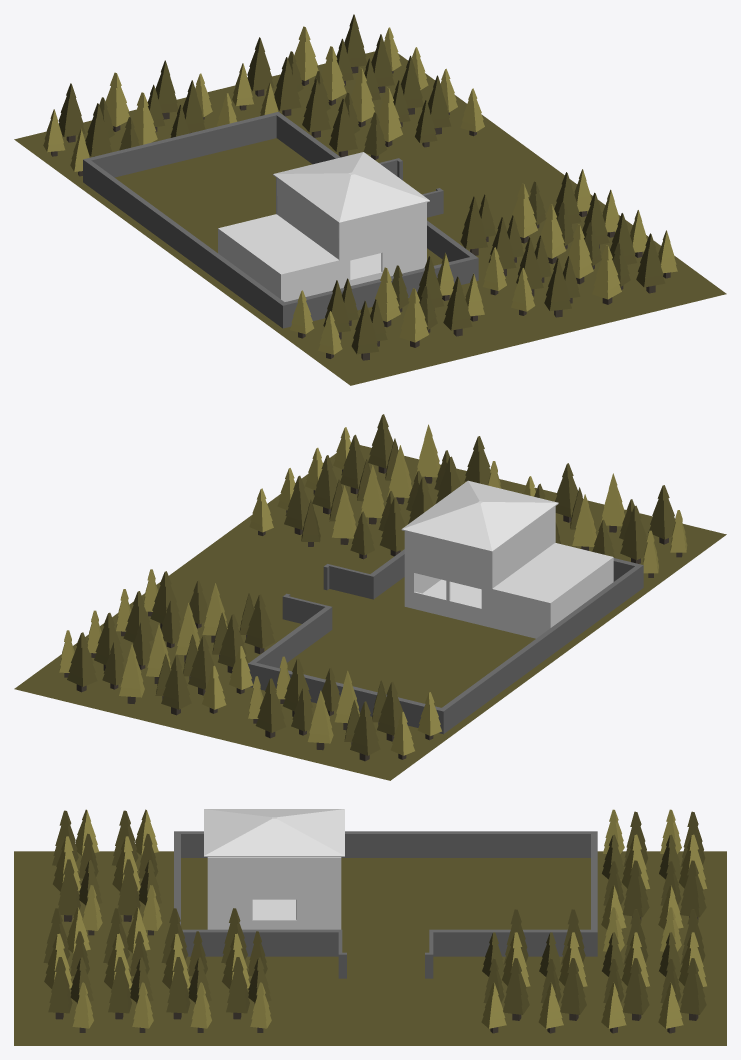
File: Mapa Completo.fbx
3 views of the same model, one above another, from view 1: azimuth 30°, elevation 25°; view 2: azimuth 150°, elevation 25°; view 3: azimuth 270°, elevation 25° (orthographic). The views are drawn at different scales.
Visible parts, largest first — view 1: Grama.001, Grama, Casa, Muro, Árvore Folhas.008, Árvore Folhas.022, Árvore Folhas.021, Árvore Folhas.007, Árvore Folhas.056, Árvore Folhas.062, Árvore Folhas.035, Árvore Folhas (+34 smaller); view 2: Grama.001, Grama, Casa, Muro, Árvore Folhas.002, Árvore Folhas.016, Árvore Folhas.062, Árvore Folhas, Árvore Folhas.014, Árvore Folhas.044, Árvore Folhas.009, Árvore Folhas.076 (+33 smaller); view 3: Grama.001, Grama, Casa, Muro, Árvore Folhas.016, Árvore Folhas.058, Árvore Folhas.037, Árvore Folhas.064, Árvore Folhas.030, Árvore Folhas.002, Árvore Folhas.021, Árvore Folhas.068 (+72 smaller).
Part boxes in pixels (x1,y1,x2,y2): Grama.001: [207, 51, 726, 339]; Grama: [14, 97, 537, 385]; Casa: [218, 152, 429, 301]; Muro: [83, 111, 478, 328]; Árvore Folhas.008: [399, 288, 428, 342]; Árvore Folhas.022: [592, 245, 621, 299]; Árvore Folhas.021: [636, 233, 665, 287]; Árvore Folhas.007: [443, 276, 472, 330]; Árvore Folhas.056: [302, 78, 330, 132]; Árvore Folhas.062: [329, 98, 357, 152]; Árvore Folhas.035: [274, 57, 301, 110]; Árvore Folhas: [58, 83, 85, 137]; Grama.001: [14, 445, 536, 734]; Grama: [203, 489, 726, 780]; Casa: [401, 480, 613, 638]; Muro: [248, 549, 643, 734]; Árvore Folhas.002: [255, 678, 285, 732]; Árvore Folhas.016: [67, 632, 97, 686]; Árvore Folhas.062: [244, 594, 274, 648]; Árvore Folhas: [350, 701, 380, 755]; Árvore Folhas.014: [161, 655, 191, 709]; Árvore Folhas.044: [620, 505, 647, 560]; Árvore Folhas.009: [648, 485, 675, 539]; Árvore Folhas.076: [380, 497, 405, 551]; Grama.001: [14, 948, 726, 1045]; Grama: [14, 851, 726, 948]; Casa: [204, 809, 344, 929]; Muro: [174, 831, 597, 978]; Árvore Folhas.016: [680, 958, 706, 1014]; Árvore Folhas.058: [560, 958, 586, 1014]; Árvore Folhas.037: [622, 958, 649, 1014]; Árvore Folhas.064: [503, 958, 529, 1014]; Árvore Folhas.030: [622, 860, 649, 917]; Árvore Folhas.002: [680, 860, 706, 917]; Árvore Folhas.021: [48, 957, 72, 1013]; Árvore Folhas.068: [166, 957, 190, 1013].
Bounding box in the file's own units: 10328 × 2449 × 16000.
